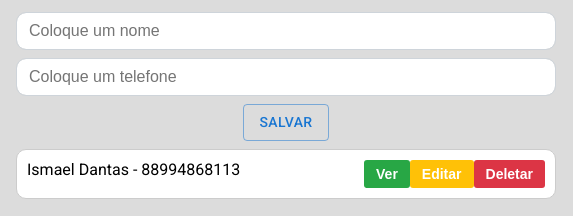
Test: Componente AddForm › Deve remover um item da lista
What coordinates should you click on to do the following:
click the button "Deletar"
I would click on:
 (509, 174)
Its box is [474,160,545,188].
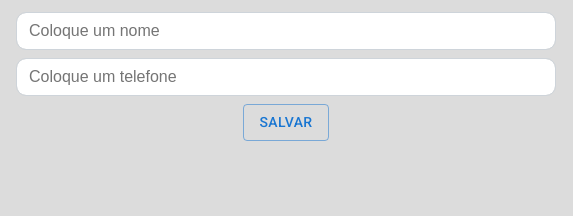
Result: the list item "Ismael Dantas" is gone
Result: the list item "88994868113" is gone
